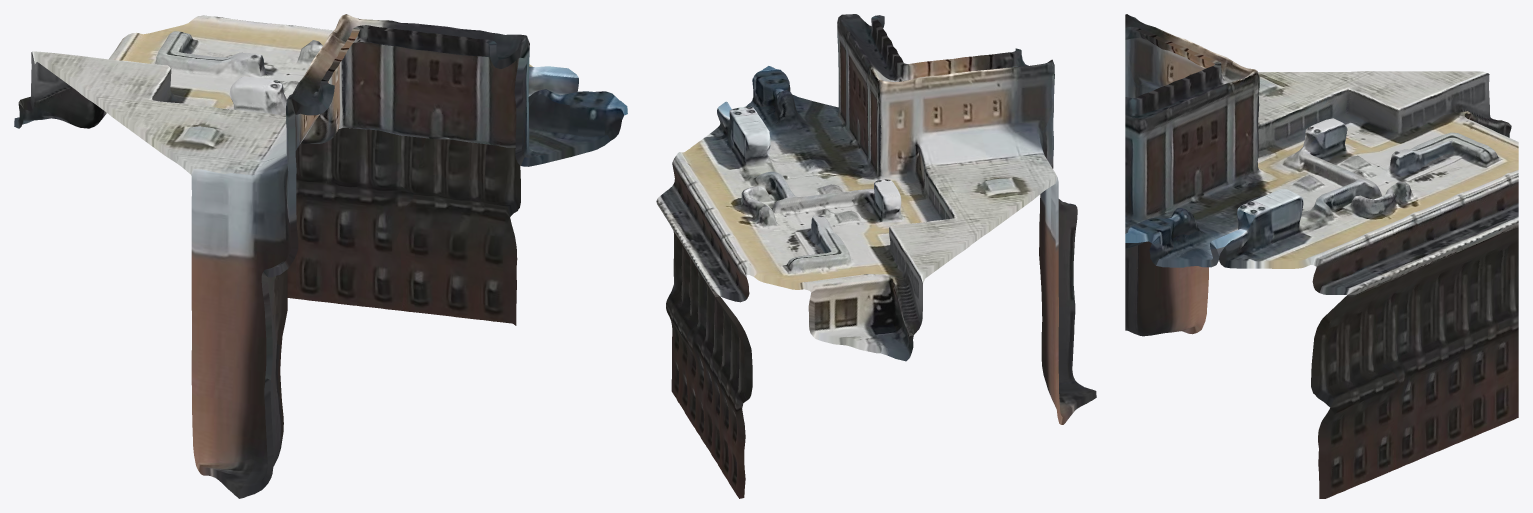
The model's file is z20-167786-405226-h1-yup-uvflip-v3-world.glb.
3 views of the same model, side by side, from view 1: azimuth 30°, elevation 25°; view 2: azimuth 150°, elevation 25°; view 3: azimuth 270°, elevation 25° (orthographic). The views are drawn at different scales.
Bounding box in the file's own units: 30.24 × 29.28 × 30.32.
1 material, 1 textured.
